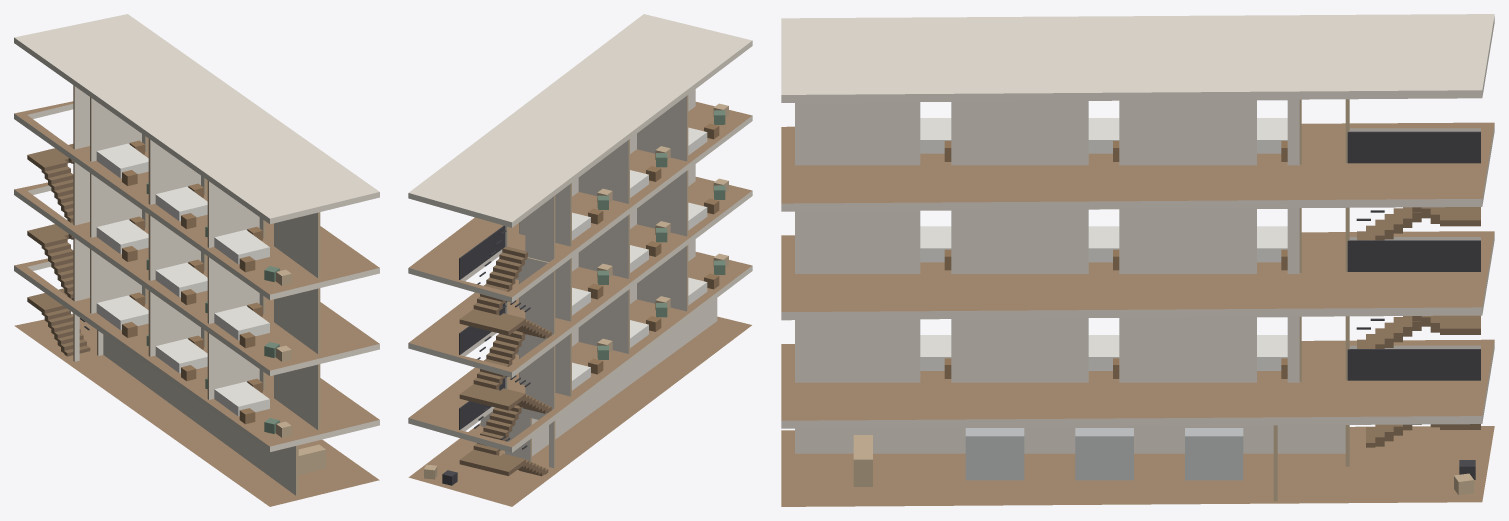
File: interior.glb
3 views of the same model, side by side, from view 1: azimuth 30°, elevation 25°; view 2: azimuth 150°, elevation 25°; view 3: azimuth 270°, elevation 25° (orthographic). The views are drawn at different scales.
Parts seen in each view (by area): view 1: slabs, partitions, coarse-s3, coarse-s2, coarse-s1, stair, coarse-s0; view 2: slabs, partitions, stair, coarse-s3, coarse-s1, coarse-s2, coarse-s0; view 3: slabs, partitions, stair, coarse-s0, coarse-s2, coarse-s1, coarse-s3.
Boxes of the visible parts, left/top/right/bottom form: slabs: left=14, top=14, right=379, bottom=506; partitions: left=73, top=85, right=320, bottom=495; coarse-s3: left=96, top=140, right=291, bottom=285; coarse-s2: left=96, top=216, right=291, bottom=361; coarse-s1: left=96, top=292, right=291, bottom=437; stair: left=27, top=144, right=90, bottom=356; coarse-s0: left=298, top=444, right=325, bottom=474; slabs: left=408, top=14, right=752, bottom=506; partitions: left=480, top=89, right=717, bottom=468; stair: left=459, top=225, right=551, bottom=476; coarse-s3: left=572, top=103, right=728, bottom=240; coarse-s1: left=572, top=253, right=728, bottom=390; coarse-s2: left=572, top=178, right=728, bottom=315; coarse-s0: left=424, top=464, right=457, bottom=485; slabs: left=781, top=14, right=1494, bottom=506; partitions: left=795, top=99, right=1349, bottom=501; stair: left=1347, top=131, right=1480, bottom=447; coarse-s0: left=853, top=428, right=1475, bottom=495; coarse-s2: left=920, top=226, right=1287, bottom=270; coarse-s1: left=920, top=335, right=1287, bottom=378; coarse-s3: left=920, top=118, right=1287, bottom=161.
Bounding box in the file's own units: 5.6 × 13.3 × 20.85.
